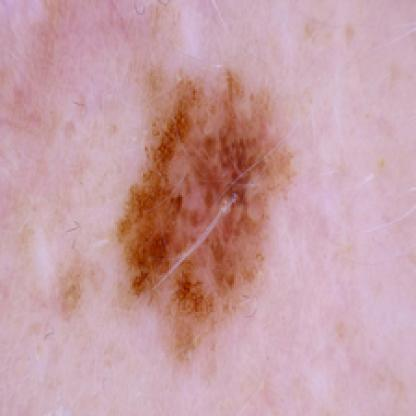Skin_Cancer-Malignant: (114, 67, 299, 373)
